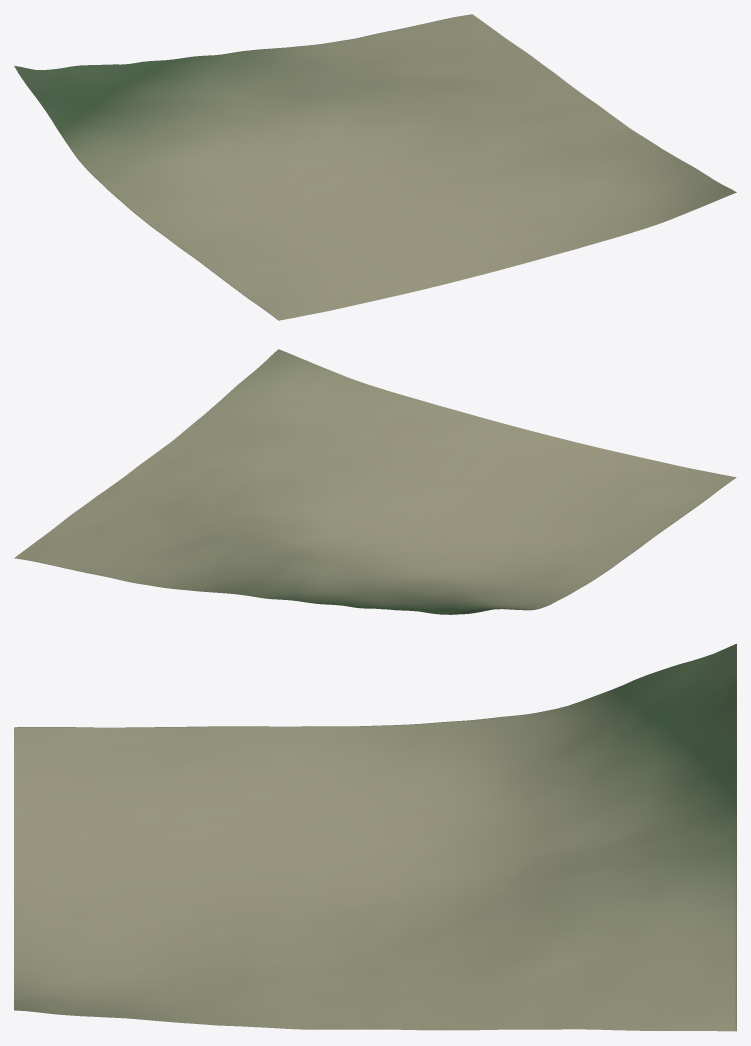
File: chunk_0_0.obj
3 renders of one model, top to bottom at view 1: azimuth 30°, elevation 25°; view 2: azimuth 150°, elevation 25°; view 3: azimuth 270°, elevation 25°, orthographic. The views are drawn at different scales.
Parts seen in each view (by area): view 1: chunk_0_0.obj; view 2: chunk_0_0.obj; view 3: chunk_0_0.obj.
Part boxes in pixels (x1,y1,x2,y2): chunk_0_0.obj: (14,14,736,320); chunk_0_0.obj: (14,349,736,614); chunk_0_0.obj: (14,643,736,1031).
Bounding box in the file's own units: 64 × 8.77 × 64.
Materials: 1 (1 with a texture image).
